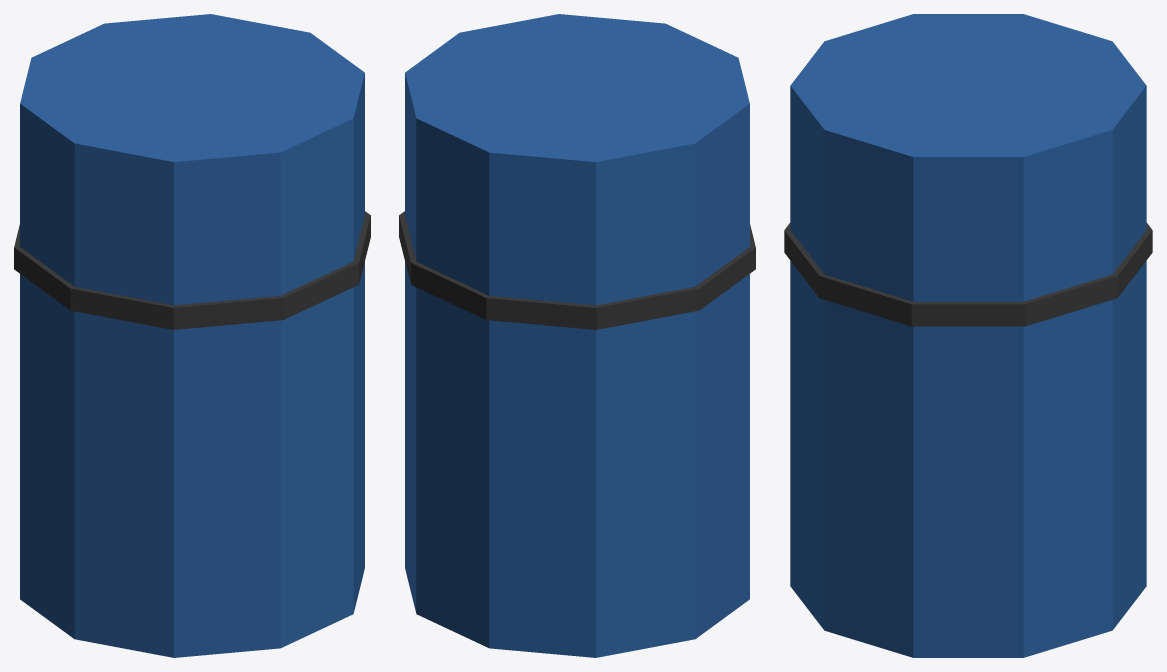
Rendered from tambor.glb.
3 renders of one model, left to right at view 1: azimuth 30°, elevation 25°; view 2: azimuth 150°, elevation 25°; view 3: azimuth 270°, elevation 25°, orthographic.
Visible parts, largest first — view 1: tambor; view 2: tambor; view 3: tambor.
Boxes of the visible parts, x1,y1,x2,y2 form: tambor: (14, 14, 370, 657); tambor: (399, 14, 755, 657); tambor: (784, 14, 1152, 657).
Size of the model in its own units: 0.5706 by 0.9 by 0.6.
